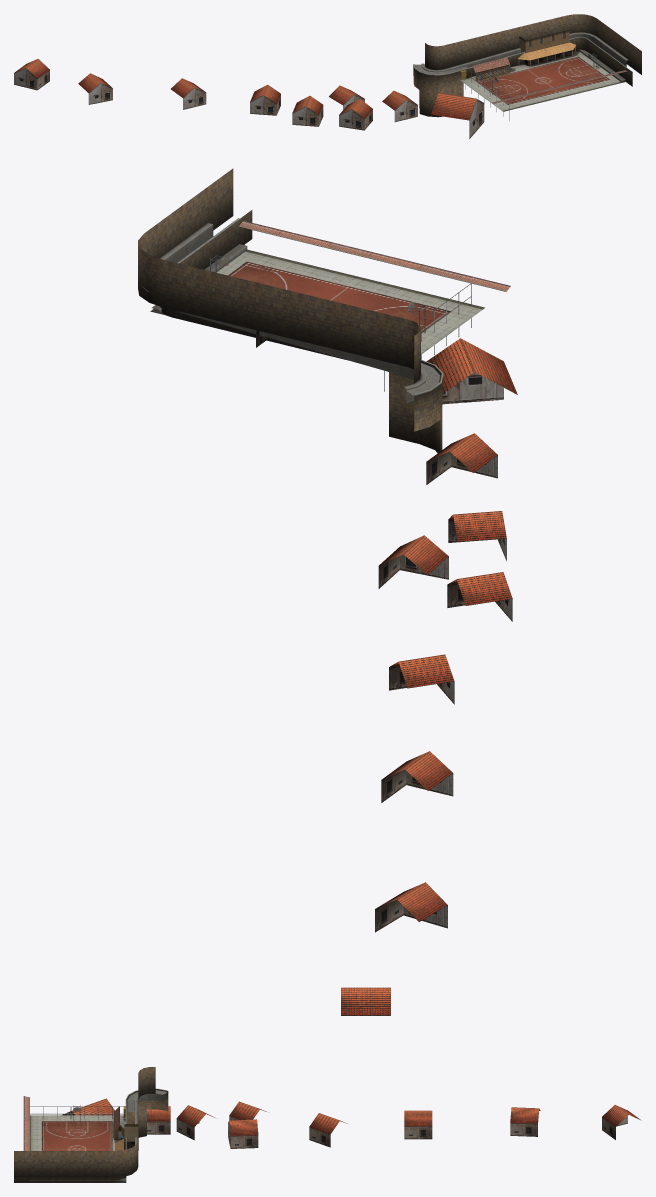
Rendered from court_italy_mesh.fbx.
3 renders of one model, top to bottom at view 1: azimuth 30°, elevation 25°; view 2: azimuth 150°, elevation 25°; view 3: azimuth 270°, elevation 25°, orthographic. The views are drawn at different scales.
Parts seen in each view (by area): view 1: court_italy_mesh; view 2: court_italy_mesh; view 3: court_italy_mesh.
Part boxes in pixels (x1,y1,x2,y2): court_italy_mesh: [14, 14, 641, 138]; court_italy_mesh: [138, 168, 517, 1015]; court_italy_mesh: [14, 1067, 641, 1182].
Size of the model in its own units: 325 by 130 by 448.
